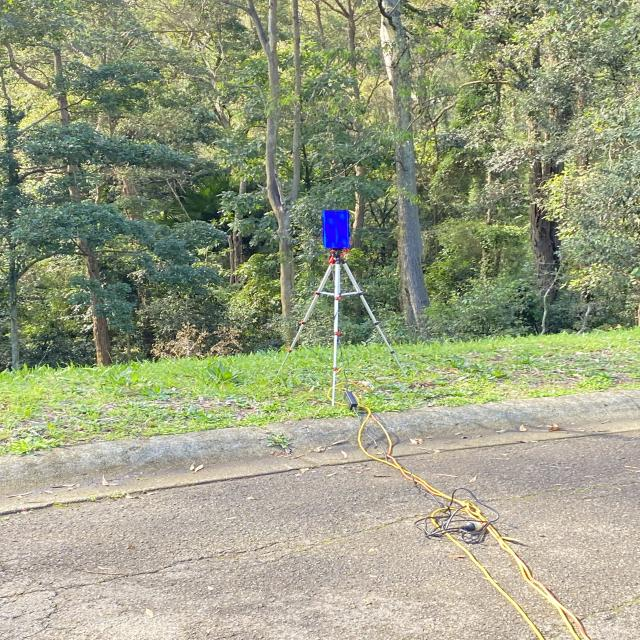matrix: (320, 210, 354, 250)
